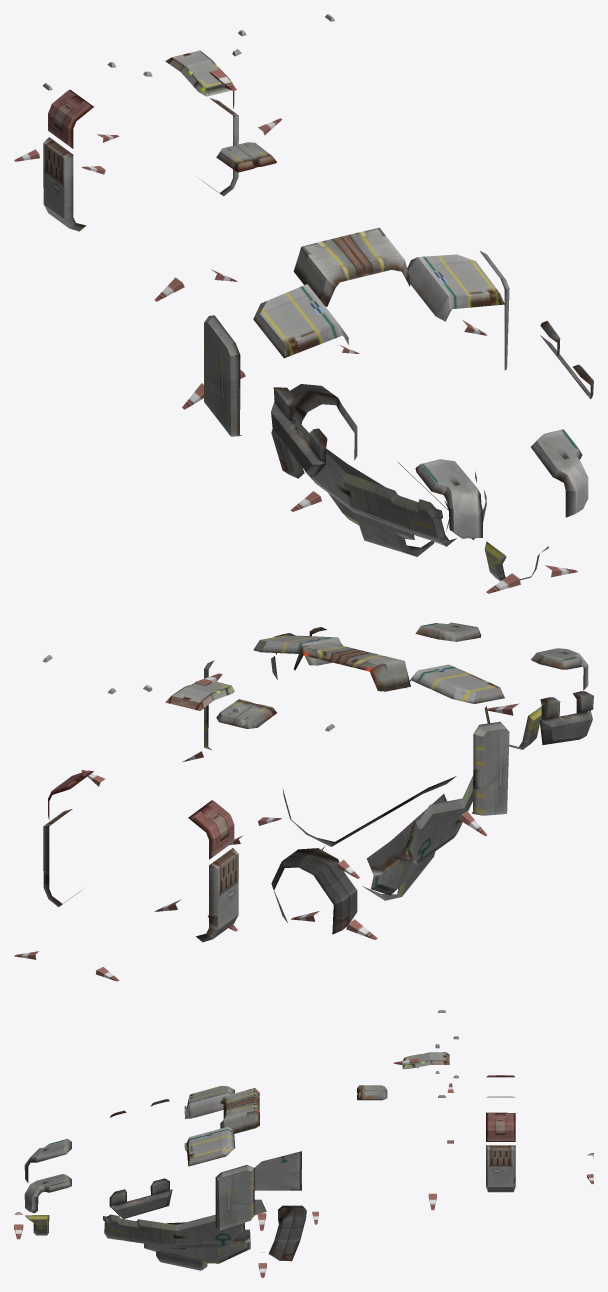
Rendered from tan_cf_miss_01_t3.glb.
3 views of the same model, one above another, from view 1: azimuth 30°, elevation 25°; view 2: azimuth 150°, elevation 25°; view 3: azimuth 270°, elevation 25° (orthographic). The views are drawn at different scales.
Visible parts, largest first — view 1: tan_missile_frigate_01_t3_LOD0; view 2: tan_missile_frigate_01_t3_LOD0; view 3: tan_missile_frigate_01_t3_LOD0.
Boxes of the visible parts, x1,y1,x2,y2 form: tan_missile_frigate_01_t3_LOD0: (14,14,593,593); tan_missile_frigate_01_t3_LOD0: (14,622,593,981); tan_missile_frigate_01_t3_LOD0: (14,1010,593,1277).
Size of what is drawn, in the model's own units: 1.19 by 1.33 by 3.2.
Materials: 1 (1 with a texture image).
